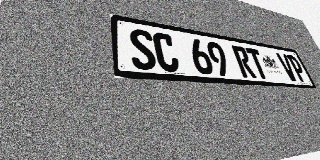6: (187, 38, 215, 75)
9: (205, 41, 232, 76)
C: (152, 32, 181, 73)
P: (286, 54, 309, 82)
R: (231, 45, 257, 78)
S: (128, 27, 158, 71)
T: (245, 47, 270, 79)
V: (276, 53, 299, 81)
